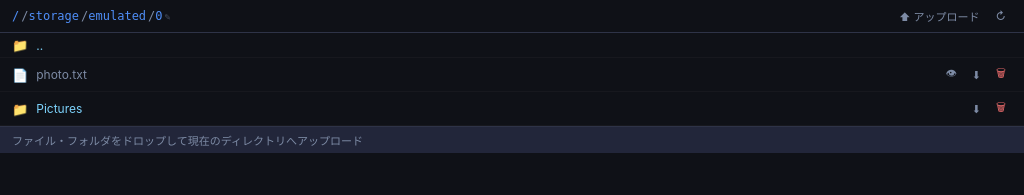
Test: FileExplorer production component › keeps native file and folder paths intact and uses the current directory
Expected: the text "photo.txt" is shown, 36,67 -> 87,82
Click the text "Pictures" at point(59, 108), box 36,101 -> 82,116
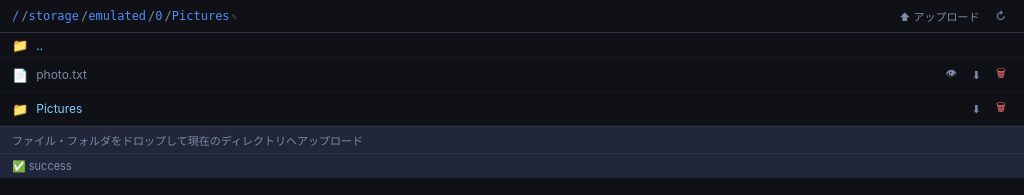
Now the text "Pictures" is shown 2 times, box 172,9 -> 230,23; 36,101 -> 82,116
